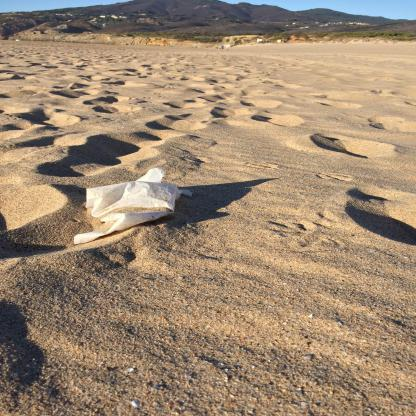plastik: (73, 169, 195, 247)
